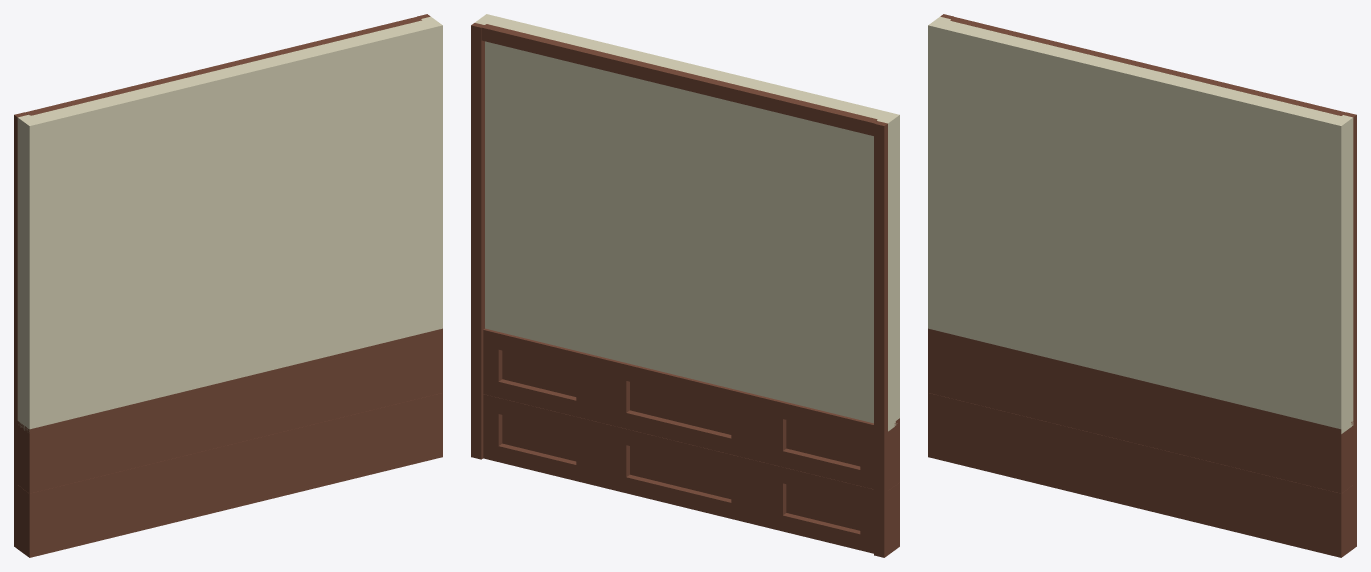
File: single-wall-simple.glb
3 views of the same model, side by side, from view 1: azimuth 30°, elevation 25°; view 2: azimuth 150°, elevation 25°; view 3: azimuth 330°, elevation 25° (orthographic).
Parts seen in each view (by area): view 1: panel, bottom-wood-panel, top-wood-panel, top-wood.001, right-wood-side; view 2: panel, top-wood-panel, bottom-wood-panel, top-wood.001, right-wood-side, left-wood-side; view 3: panel, bottom-wood-panel, top-wood-panel, top-wood.001, left-wood-side.
Part boxes in pixels (x1,y1,x2,y2): panel: (17, 16, 442, 431); bottom-wood-panel: (16, 393, 442, 557); top-wood-panel: (17, 328, 442, 493); top-wood.001: (24, 16, 421, 115); right-wood-side: (14, 112, 27, 548); panel: (475, 14, 899, 431); top-wood-panel: (483, 328, 899, 490); bottom-wood-panel: (483, 394, 899, 554); top-wood.001: (481, 24, 877, 135); right-wood-side: (874, 121, 887, 557); left-wood-side: (471, 23, 484, 459); panel: (928, 16, 1353, 433); bottom-wood-panel: (928, 393, 1353, 557); top-wood-panel: (928, 328, 1353, 493); top-wood.001: (950, 16, 1345, 115); left-wood-side: (1343, 112, 1356, 548).
Bounding box in the file's own units: 2 × 2 × 0.1302.
